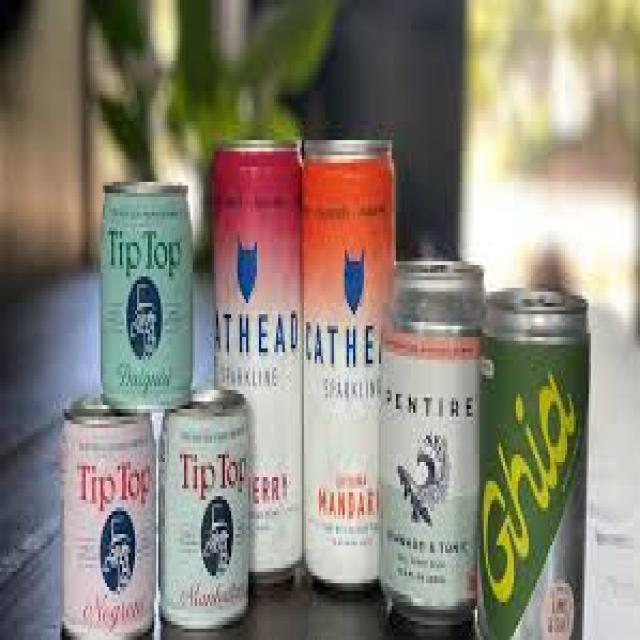Cans: (297, 128, 394, 594), (208, 129, 304, 579), (477, 280, 595, 640), (377, 254, 486, 628), (156, 383, 255, 636), (58, 390, 158, 640), (98, 167, 195, 405)
